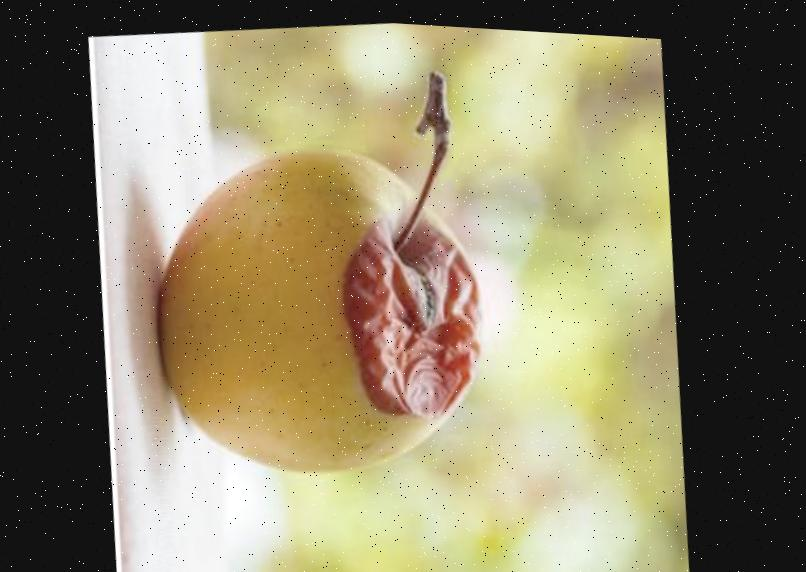ROT: (114, 98, 513, 544)
